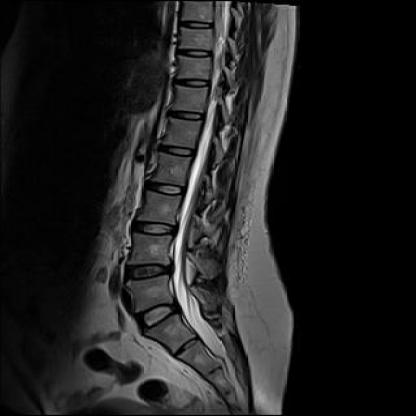Disc Bulgerotation: (136, 302, 177, 327), (123, 264, 173, 283), (133, 219, 178, 239)
